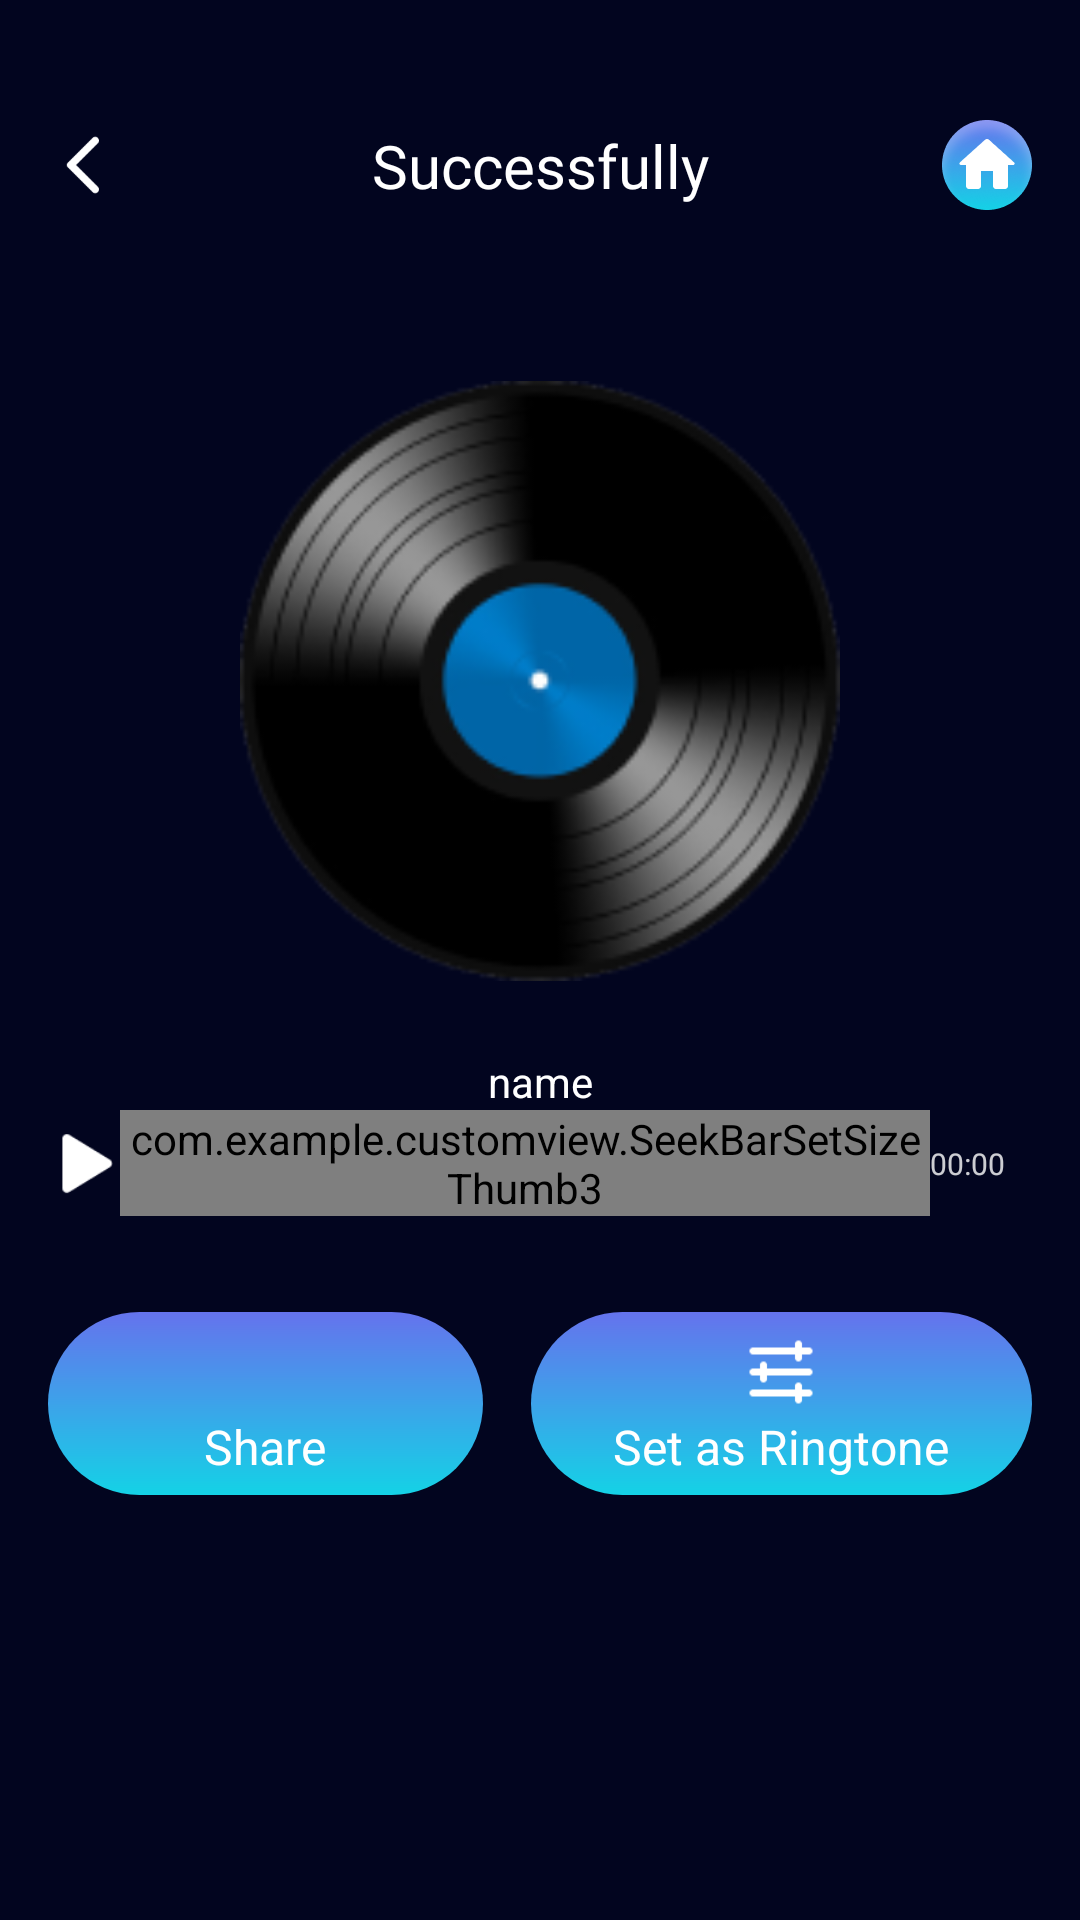

Screen size 1080×1920. Icon name, then its box in pixels as [x1, y1, x2, y2]:
back: [66, 136, 99, 194]
home: [942, 120, 1032, 210]
